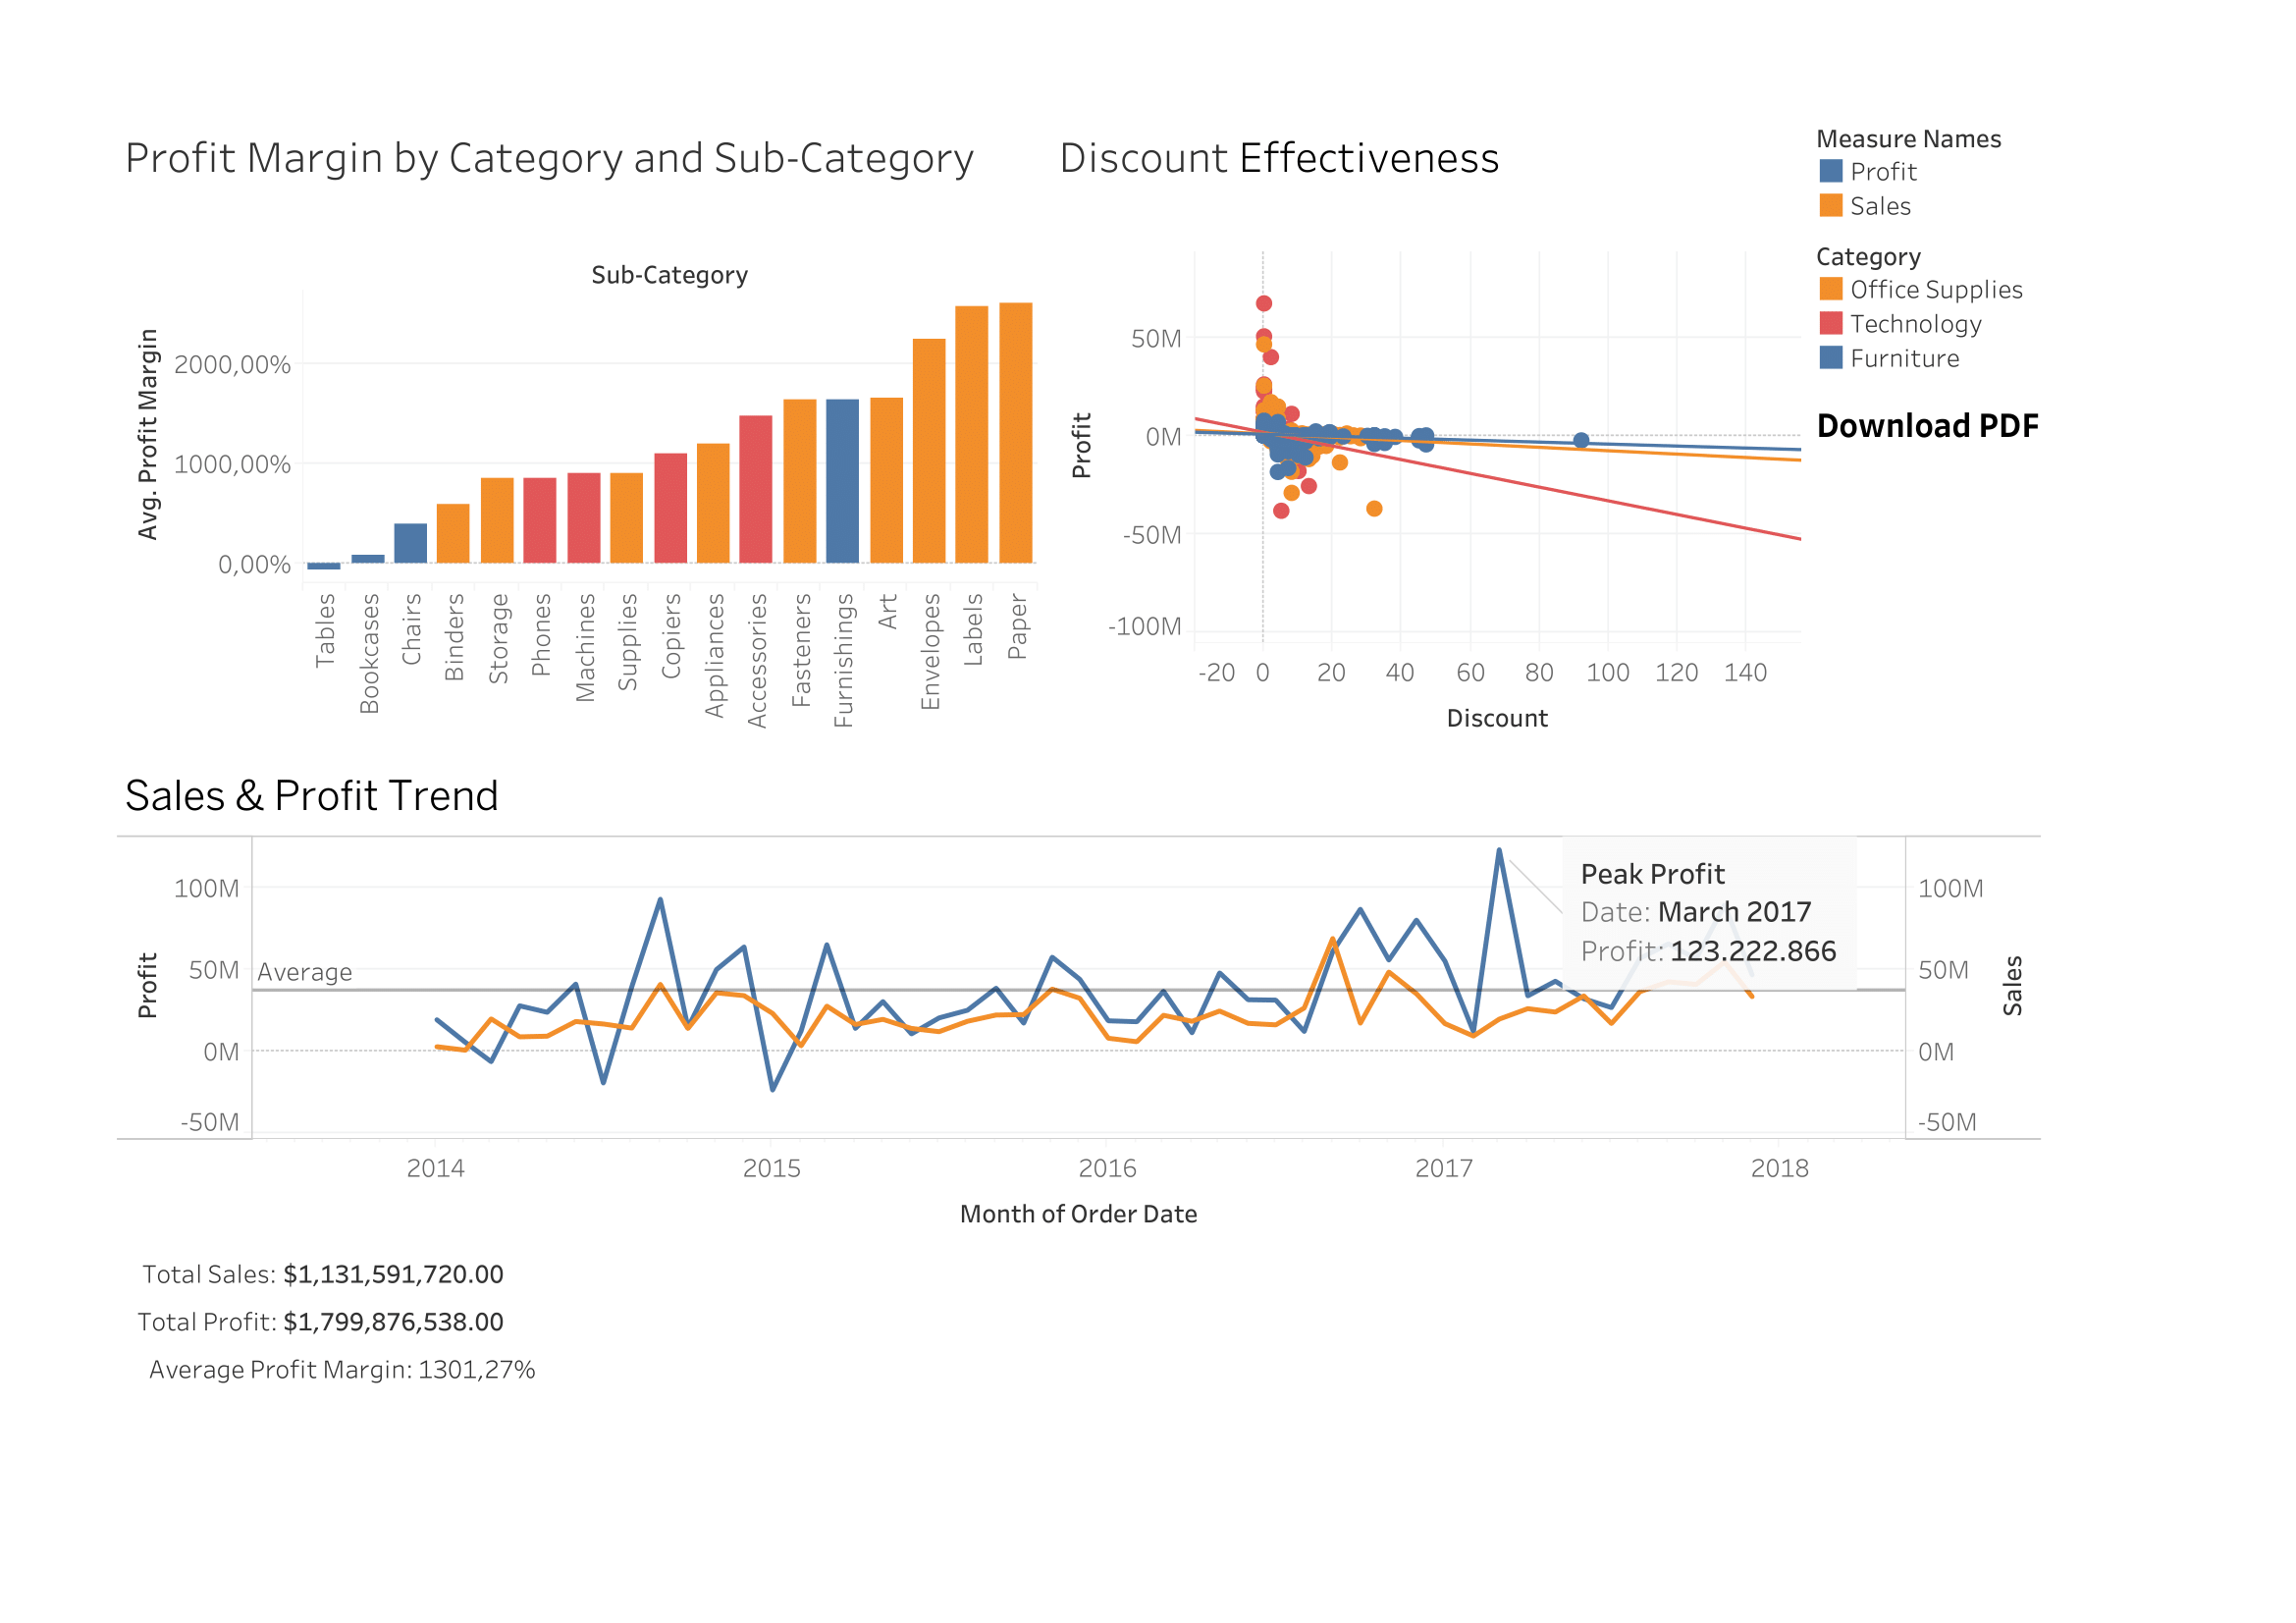

This screenshot's page, from the dashboard's own definition file:
{"tool":"tableau","page":{"name":"Dashboard 2","canvas":[1200,800],"ordinal":0},"visuals":[{"type":"worksheet","title":"Profit Margin","mark":"Automatic","rows":["Calculation_435441834418540544"],"cols":["Sub-Category"],"box":[8,8,571,392]},{"type":"worksheet","title":"Discount vs Profit","mark":"Circle","rows":["Profit"],"cols":["Discount"],"box":[579,8,466,392]},{"type":"legend","title":"Sales & Profit Trend","param":"[federated.11qwwe10tg554g100elgp17oae5k].[:Measure Names]","box":[1045,8,147,72]},{"type":"legend","title":"Profit Margin","param":"[federated.11qwwe10tg554g100elgp17oae5k].[none:Category:nk]","box":[1045,80,147,93]},{"type":"dashboard-object","box":[1045,173,147,52]},{"type":"worksheet","title":"Sales & Profit Trend","mark":"Automatic","rows":["Profit","Sales"],"cols":["Order Date"],"box":[8,400,1184,304]},{"type":"worksheet","title":"KPI - Total Sales","mark":"Automatic","box":[8,704,1184,29]},{"type":"worksheet","title":"KPI - Total Profit","mark":"Automatic","box":[8,733,1184,29]},{"type":"worksheet","title":"KPI - Avg Profit Margin","mark":"Automatic","box":[8,762,1184,29]}]}

Visuals, with their boxes on the page's 1200x800 design canvas (x1, y1, x2, y2). These are canvas units, not pixel positions in the 2296x1623 screenshot, which may show the page scaled, cropped or inside an application window:
"Profit Margin" worksheet: 8,8,579,400
"Discount vs Profit" worksheet (Circle marks): 579,8,1045,400
"Sales & Profit Trend" legend: 1045,8,1192,80
"Profit Margin" legend: 1045,80,1192,173
dashboard-object: 1045,173,1192,225
"Sales & Profit Trend" worksheet: 8,400,1192,704
"KPI - Total Sales" worksheet: 8,704,1192,733
"KPI - Total Profit" worksheet: 8,733,1192,762
"KPI - Avg Profit Margin" worksheet: 8,762,1192,791
